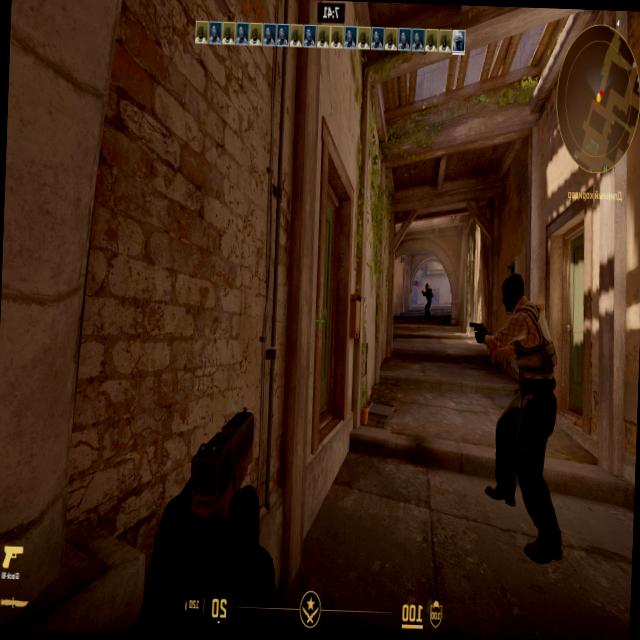CT: (424, 284, 432, 316)
CT_heat: (425, 286, 428, 292)
T: (502, 280, 540, 477)
T_heat: (508, 284, 520, 306)
